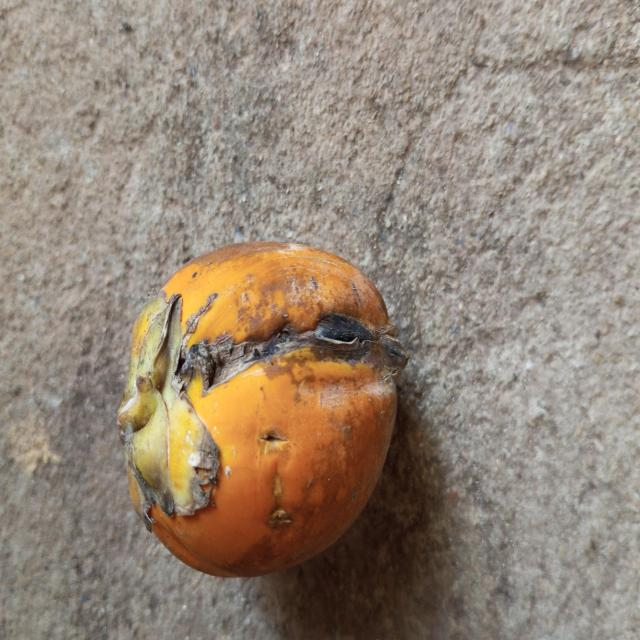damaged: (118, 242, 407, 576)
